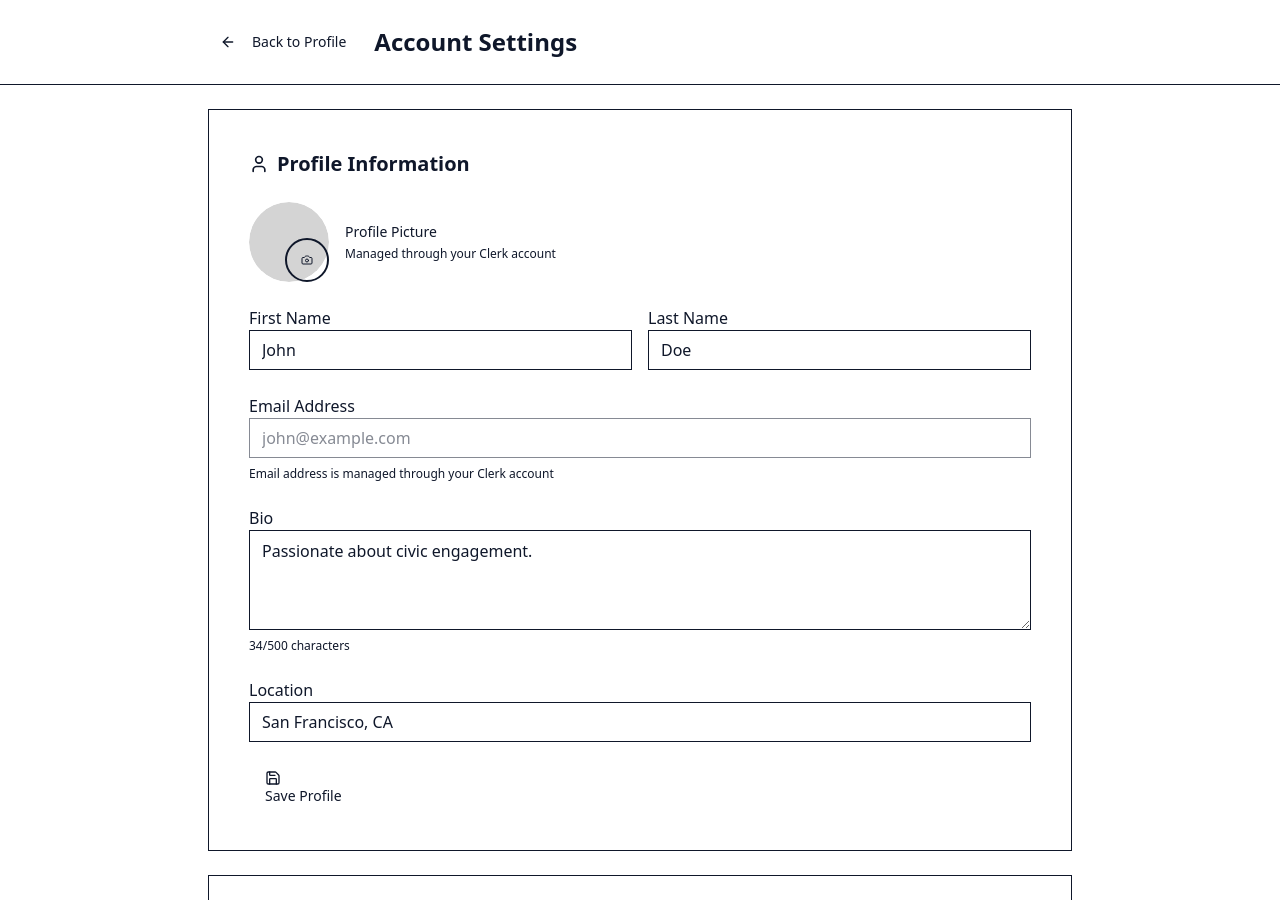
Test: SettingsPage › shows success message after profile update
// Update and save
Replace the text in the field showing "John" with "Johnny" at (440, 350), box [249,330,632,370]
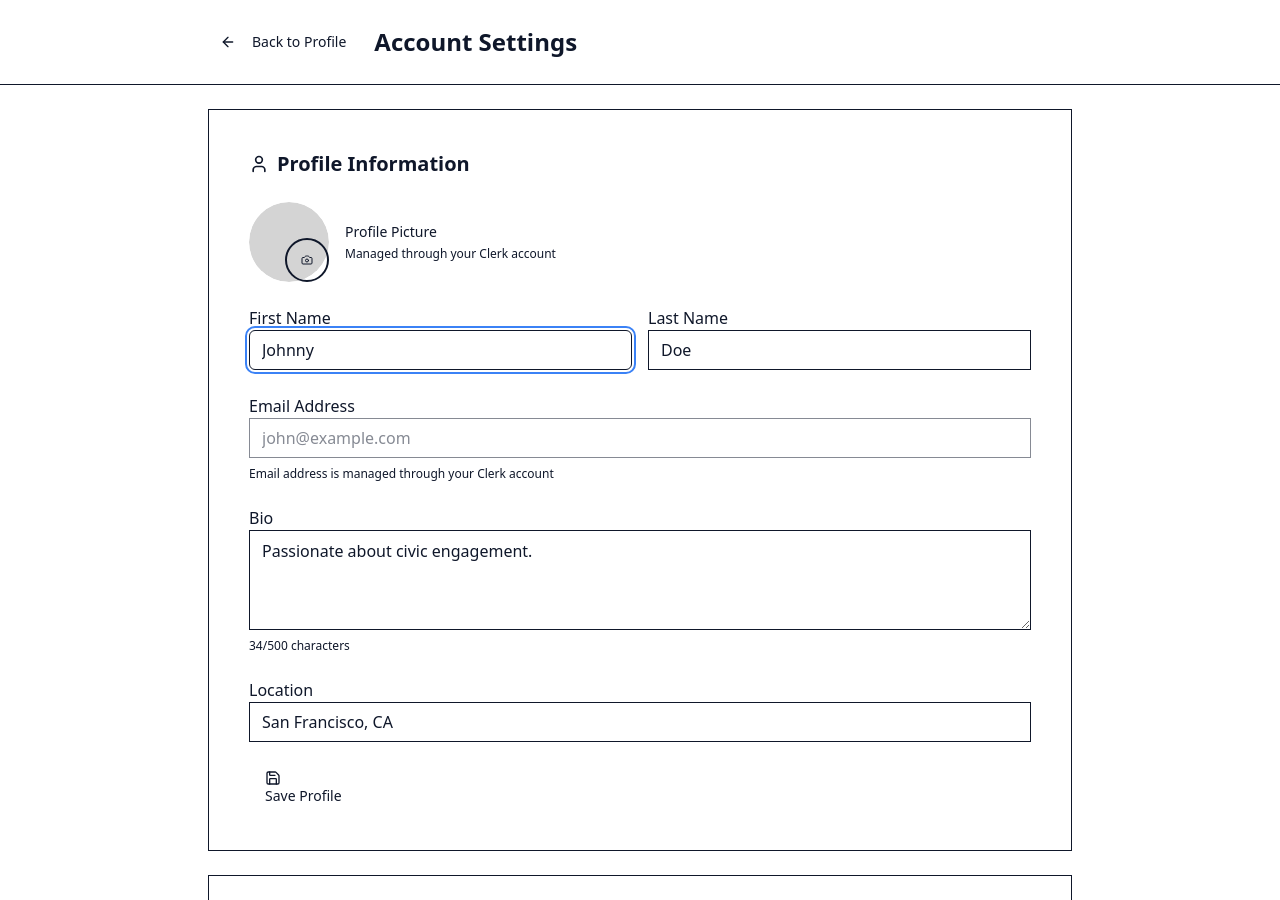
Click the button "Save Profile" at (303, 788), box [249,766,358,810]
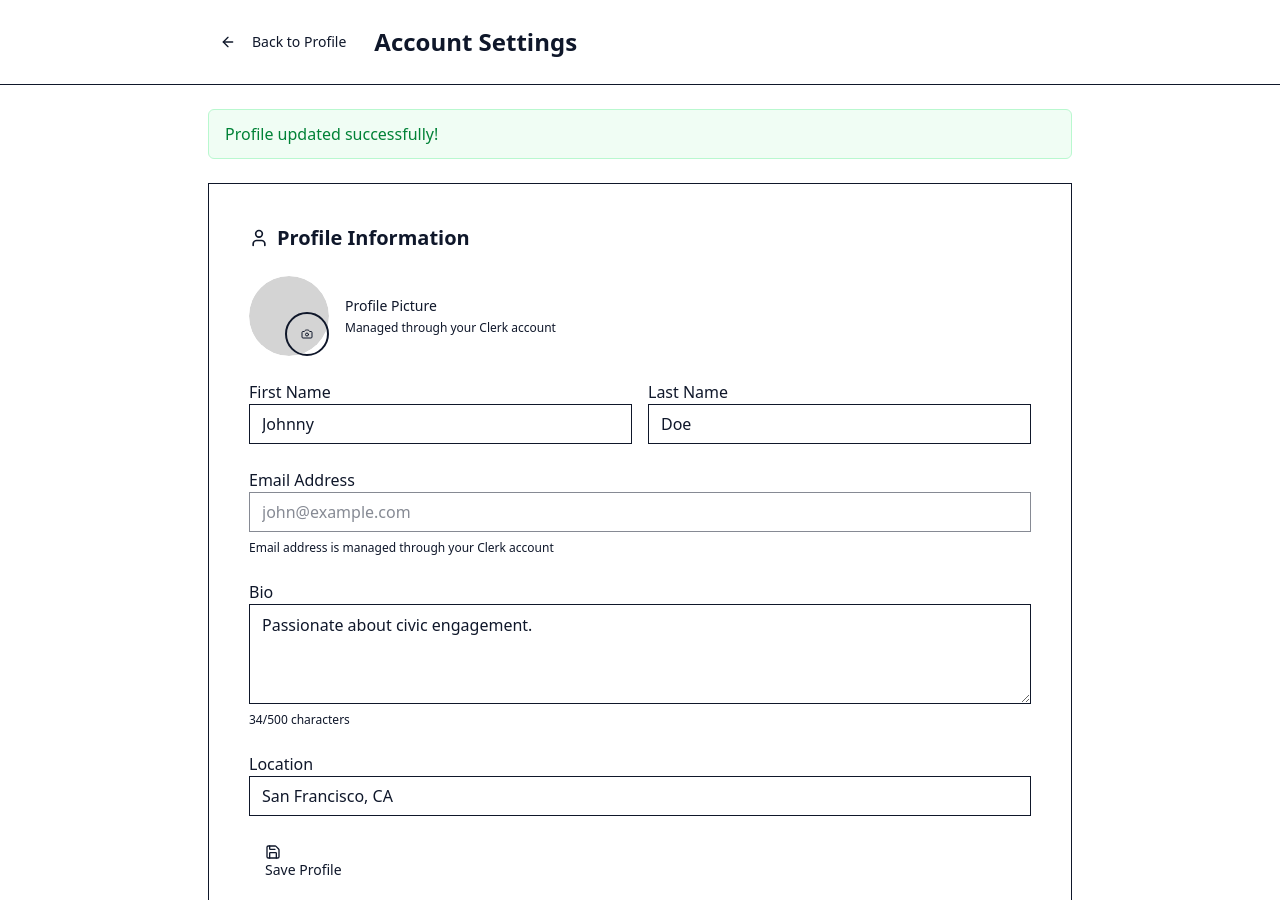
Expected: the text "Profile updated successfully!" is shown, [208,109,1072,159]
